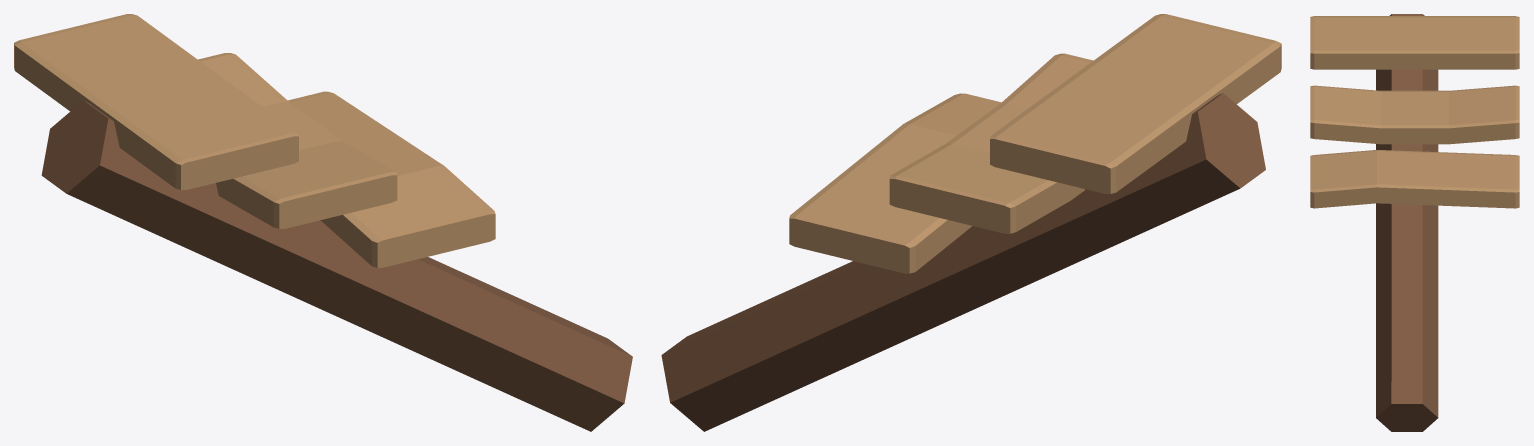
File: Staircase_wood_little.fbx
3 renders of one model, left to right at view 1: azimuth 30°, elevation 25°; view 2: azimuth 150°, elevation 25°; view 3: azimuth 270°, elevation 25°, orthographic. The views are drawn at different scales.
Parts seen in each view (by area): view 1: Staircase_wood_little; view 2: Staircase_wood_little; view 3: Staircase_wood_little.
Part boxes in pixels (x1,y1,x2,y2): Staircase_wood_little: (14, 14, 632, 431); Staircase_wood_little: (661, 14, 1281, 431); Staircase_wood_little: (1310, 14, 1519, 431).
Size of the model in its own units: 68.76 by 134 by 97.99.
